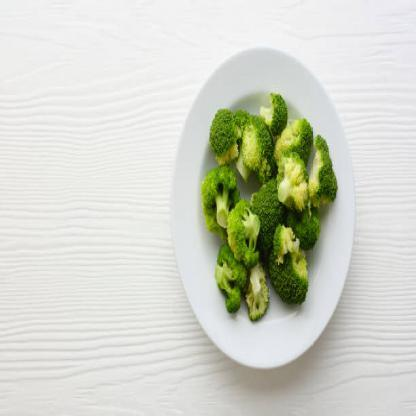broccoli: (199, 88, 340, 324)
